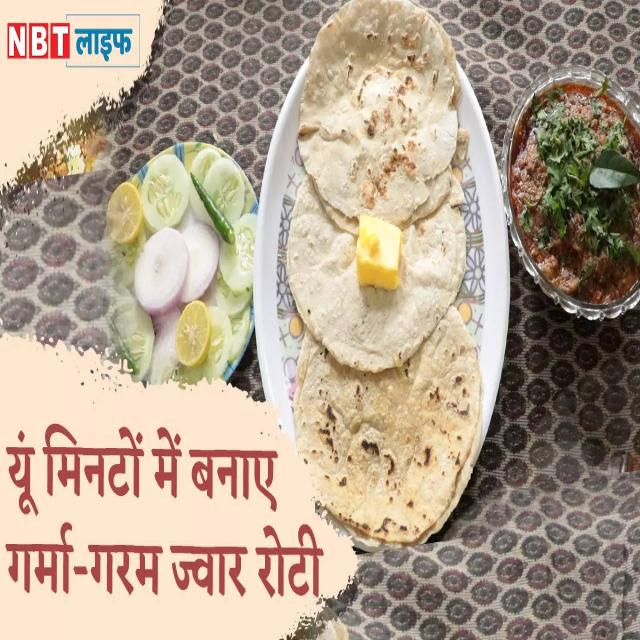ROTI: (293, 3, 472, 542)
